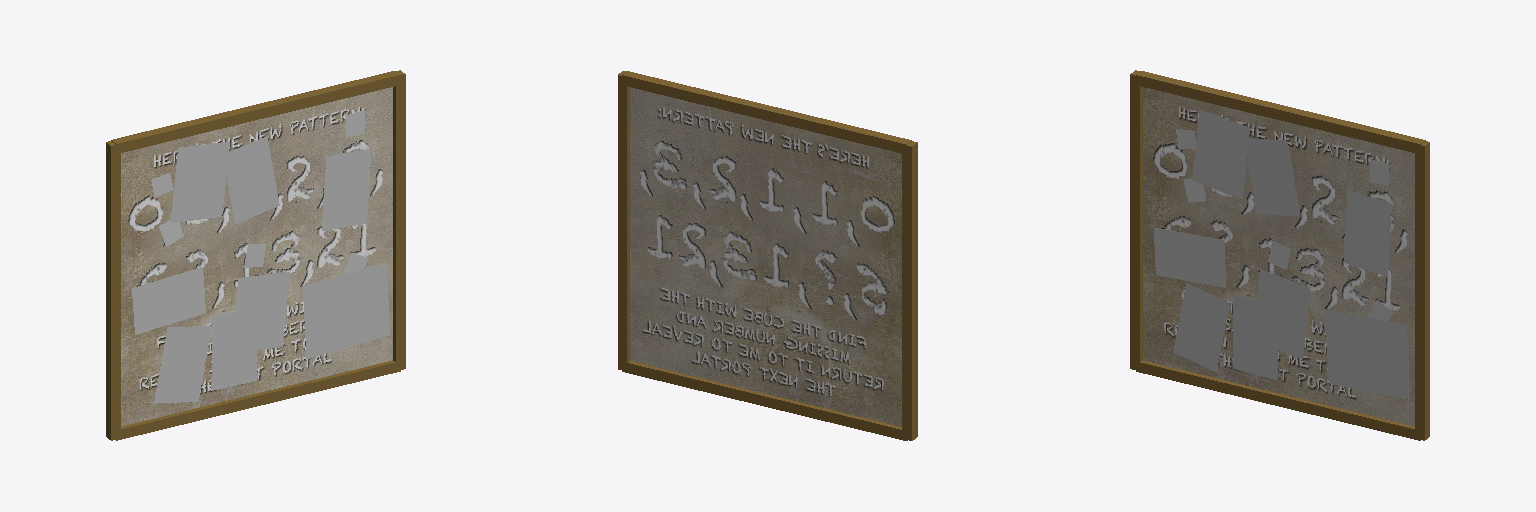
3 renders of one model, left to right at view 1: azimuth 30°, elevation 25°; view 2: azimuth 150°, elevation 25°; view 3: azimuth 330°, elevation 25°, orthographic.
Parts seen in each view (by area): view 1: Plane, Plane4, Box2, Box, Plane7, Box1, Box3, Plane8, Plane10, Plane3, Plane9, Plane5 (+1 smaller); view 2: Plane, Box, Box2, Box3, Box1; view 3: Plane, Plane4, Box2, Box1, Plane7, Box, Box3, Plane8, Plane9, Plane10, Plane3, Plane5 (+1 smaller).
Boxes of the visible parts, <box> form: Plane: <box>121,87,392,426</box>; Plane4: <box>303,262,389,358</box>; Box2: <box>111,71,400,153</box>; Box: <box>106,141,120,440</box>; Plane7: <box>170,141,229,222</box>; Box1: <box>393,70,405,369</box>; Box3: <box>116,360,400,440</box>; Plane8: <box>132,267,205,334</box>; Plane10: <box>154,326,211,402</box>; Plane3: <box>322,149,371,230</box>; Plane9: <box>211,307,257,390</box>; Plane5: <box>226,136,279,223</box>; Plane: <box>630,87,901,426</box>; Box: <box>902,141,917,440</box>; Box2: <box>622,71,911,154</box>; Box3: <box>622,361,907,440</box>; Box1: <box>618,71,629,371</box>; Plane: <box>1143,87,1414,426</box>; Plane4: <box>1325,309,1410,399</box>; Box2: <box>1136,71,1425,153</box>; Box1: <box>1415,141,1429,440</box>; Plane7: <box>1192,109,1249,199</box>; Box: <box>1130,70,1142,369</box>; Box3: <box>1136,360,1420,440</box>; Plane8: <box>1154,227,1225,287</box>; Plane9: <box>1233,295,1277,380</box>; Plane10: <box>1173,283,1229,371</box>; Plane3: <box>1344,190,1391,276</box>; Plane5: <box>1247,138,1300,216</box>.
Bounding box in the file's own units: 1.03 × 0.9964 × 0.0386.
6 materials, 1 textured.